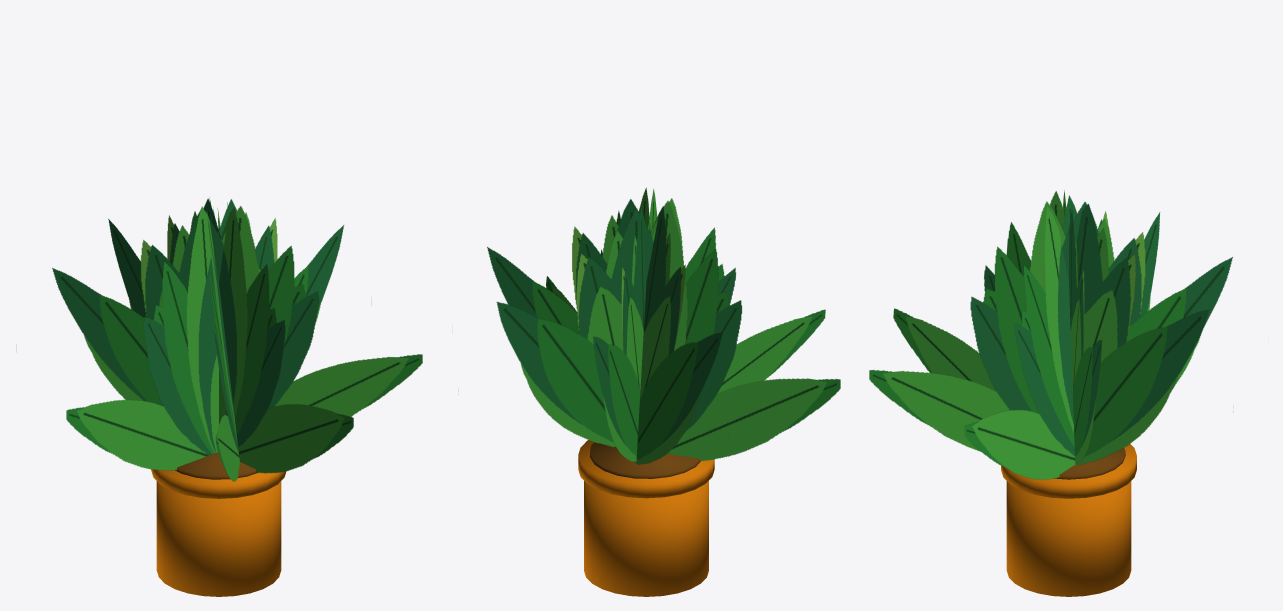
File: plant_fern.glb
3 renders of one model, left to right at view 1: azimuth 30°, elevation 25°; view 2: azimuth 150°, elevation 25°; view 3: azimuth 270°, elevation 25°, orthographic.
Visible parts, largest first — view 1: Plane, Plane.003, Plane.002, Cylinder, Plane.001, Cylinder.001, Cylinder.002; view 2: Plane.001, Plane, Cylinder, Plane.003, Plane.002, Cylinder.001, Cylinder.002; view 3: Plane.001, Plane.002, Plane.003, Cylinder, Plane, Cylinder.001, Cylinder.002.
Part boxes in pixels (x1,y1,x2,y2): Plane: (66,199,344,470); Plane.003: (52,206,422,416); Plane.002: (108,198,353,473); Cylinder: (156,481,281,596); Plane.001: (206,197,239,481); Cylinder.001: (151,469,286,498); Cylinder.002: (175,452,258,479); Plane.001: (458,198,825,446); Plane: (487,199,840,461); Cylinder: (584,481,708,596); Plane.003: (546,187,722,464); Plane.002: (593,189,657,461); Cylinder.001: (578,440,714,498); Cylinder.002: (590,442,700,478); Plane.001: (893,191,1209,465); Plane.002: (869,201,1232,450); Plane.003: (964,195,1159,479); Cylinder: (1006,481,1131,596); Plane: (1063,190,1109,463); Cylinder.001: (1001,444,1136,498); Cylinder.002: (1054,448,1125,479).
Size of the model in its own units: 0.3528 by 0.46 by 0.3528.
Materials: 3 (1 with a texture image).
